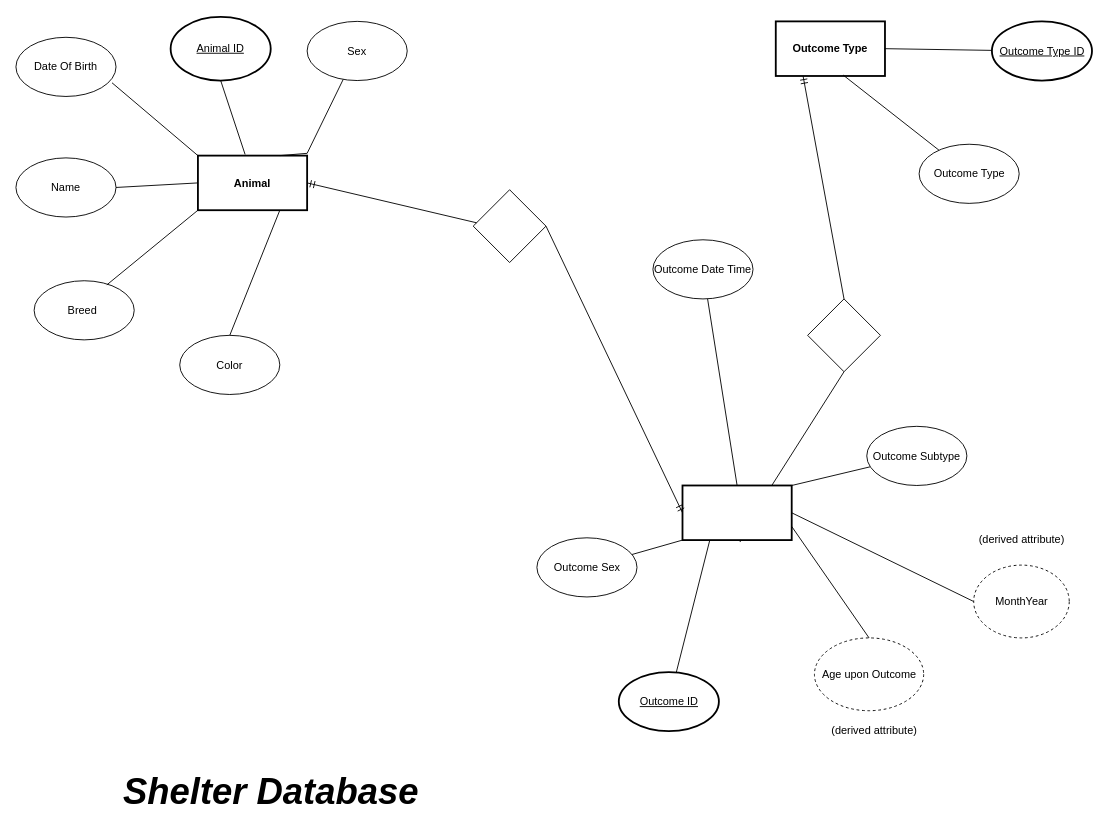
This 1108x833 diagram has some shape labels left out. Each missing label, with the centre of its shape:
"GIVE" goes at pixel 509 226.
"HAVE" goes at pixel 843 335.
"Ourtcome Event" goes at pixel 736 512.
